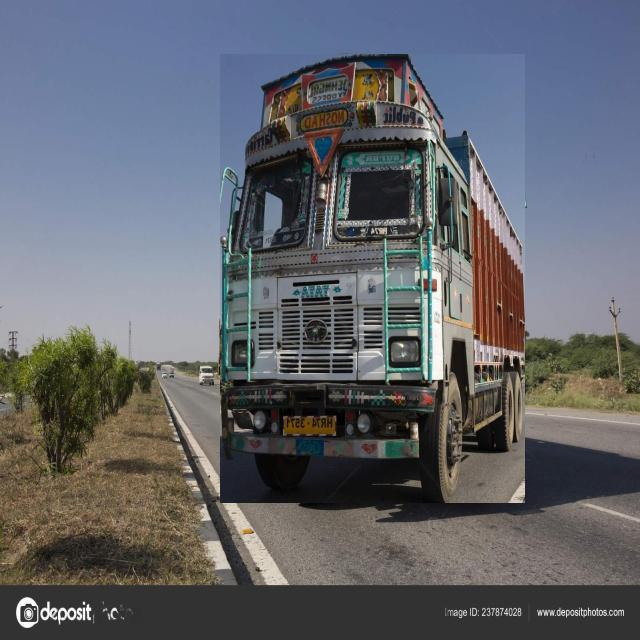truck: (220, 55, 525, 503)
